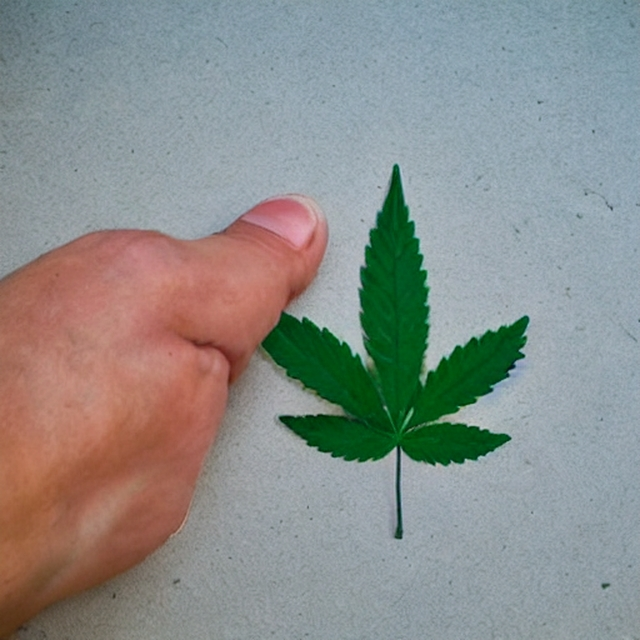Marijuana Leaf: (258, 160, 530, 539)
